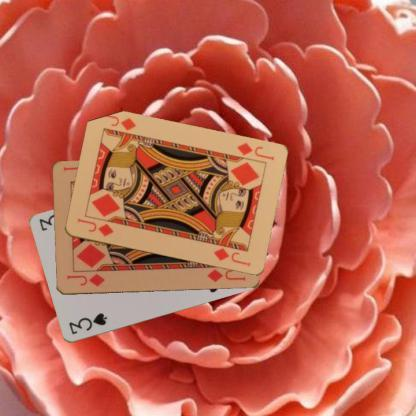3s: (66, 310, 108, 336)
Jd: (74, 216, 115, 238), (234, 140, 275, 162), (64, 272, 106, 288)
